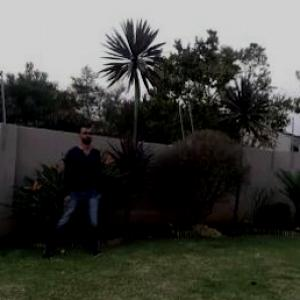follow: (64, 121, 105, 259)
